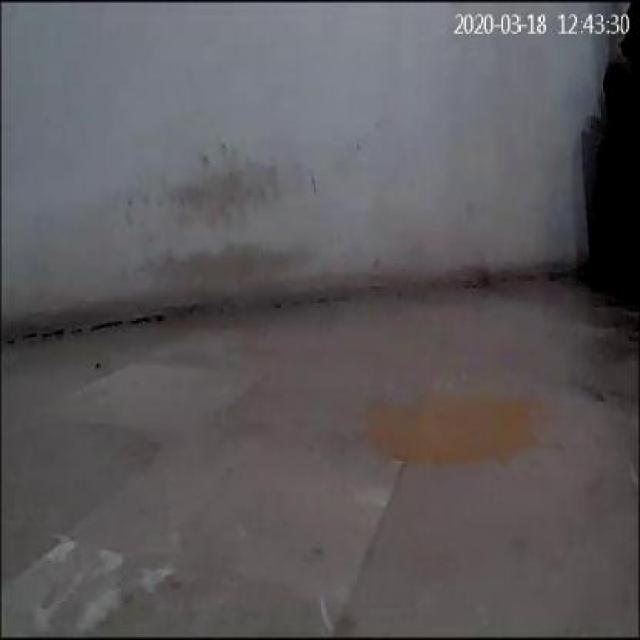spill: (366, 398, 542, 478)
